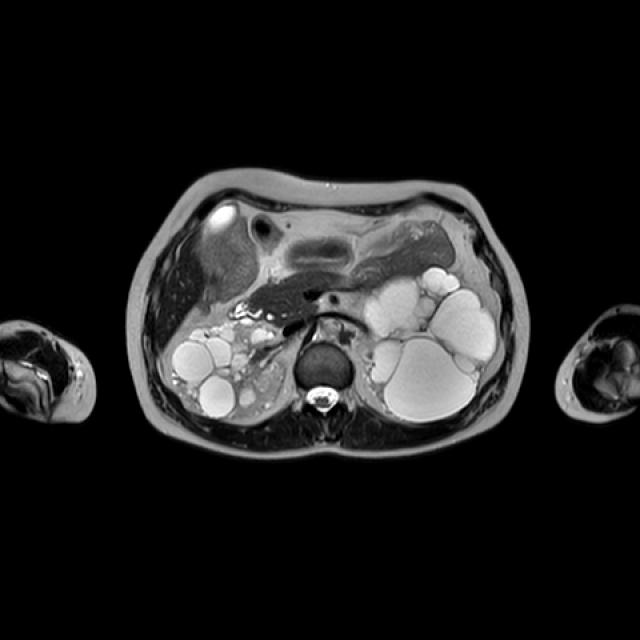sag: (171, 319, 287, 420)
sol: (366, 266, 498, 422)
